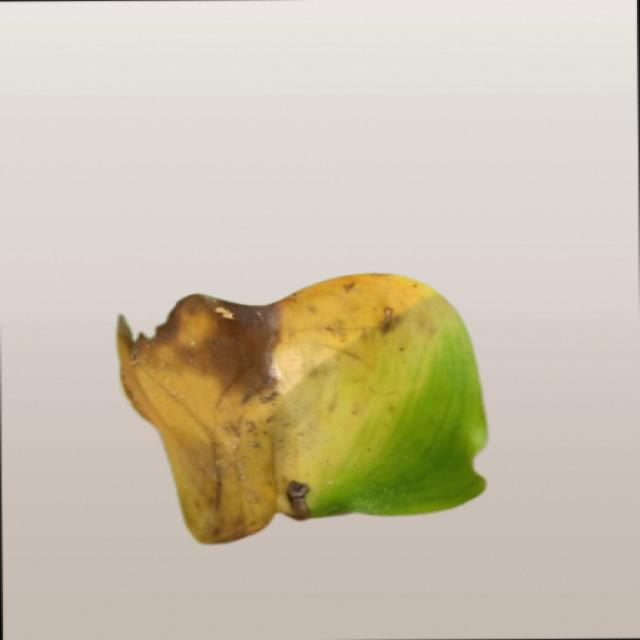daun berpenyakit kuning: (117, 274, 487, 543)
